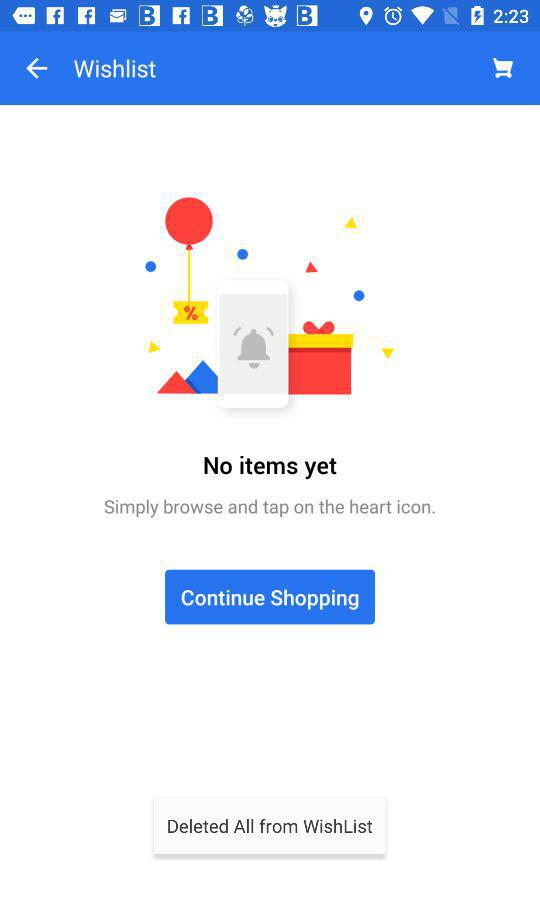Icon: (26, 58, 49, 81), (493, 58, 514, 80)
Image: (145, 197, 394, 410)
Text: (105, 498, 436, 519), (204, 455, 338, 480), (74, 59, 157, 80)
TextButton: (154, 799, 387, 855), (165, 569, 376, 625)
Toolbar: (1, 33, 540, 106)
UpperTaskBar: (1, 1, 540, 33)
